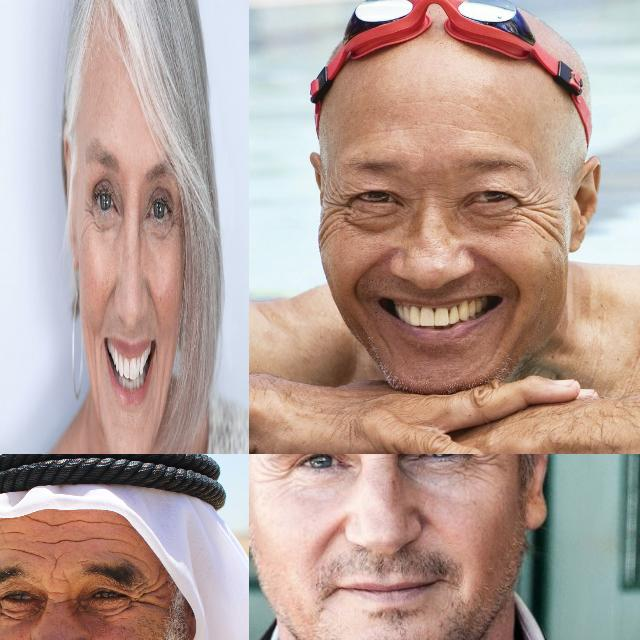crows_feet: (322, 188, 348, 238), (520, 186, 552, 224), (260, 458, 290, 486), (137, 580, 163, 612), (463, 454, 493, 474), (81, 196, 94, 230), (172, 200, 182, 237), (0, 596, 7, 620)
forehead: (81, 528, 130, 552), (32, 513, 80, 531), (8, 544, 48, 562), (84, 514, 122, 532), (41, 534, 81, 550), (122, 547, 152, 567), (0, 526, 27, 542)
frown_line: (48, 586, 72, 610), (48, 564, 68, 588)
gummy_smile: (488, 250, 526, 294), (349, 249, 381, 299), (318, 512, 340, 556), (99, 277, 116, 316), (147, 281, 156, 315)
